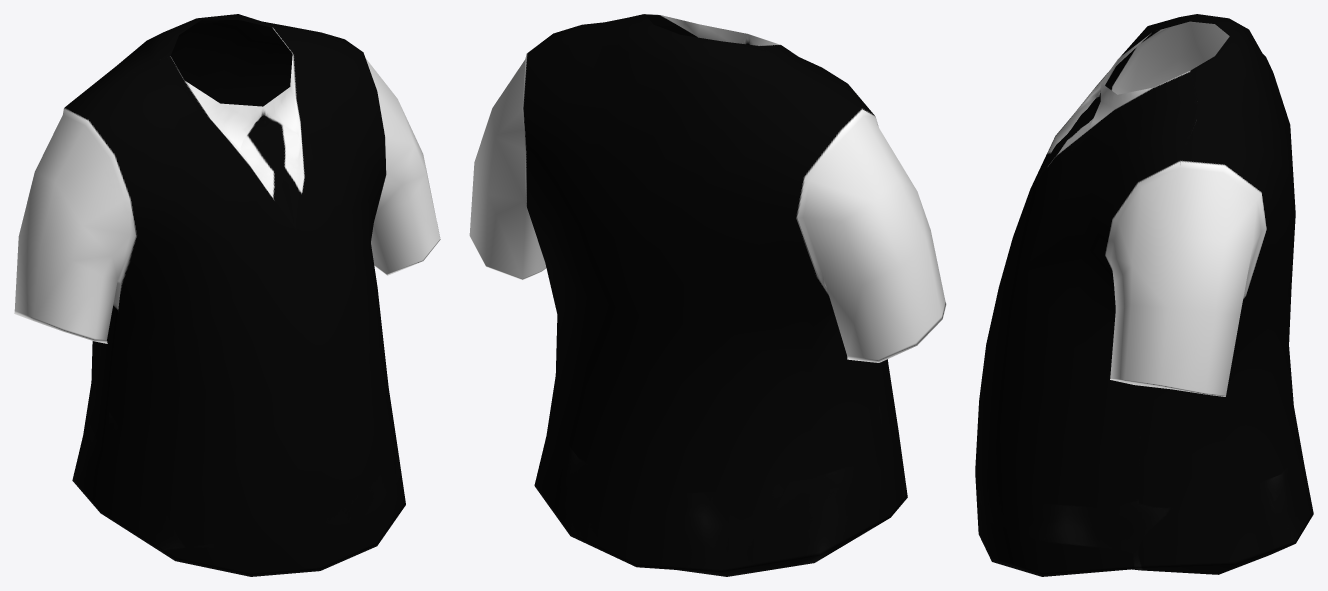
The model's file is AF_M_Jacket_04.fbx.
3 renders of one model, left to right at view 1: azimuth 30°, elevation 25°; view 2: azimuth 150°, elevation 25°; view 3: azimuth 270°, elevation 25°, orthographic. The views are drawn at different scales.
Parts seen in each view (by area): view 1: AF_M_Jacket_04; view 2: AF_M_Jacket_04; view 3: AF_M_Jacket_04.
Boxes of the visible parts, x1,y1,x2,y2 form: AF_M_Jacket_04: (14, 14, 440, 576); AF_M_Jacket_04: (469, 14, 946, 576); AF_M_Jacket_04: (975, 14, 1313, 576).
Bounding box in the file's own units: 464 × 512 × 316.
